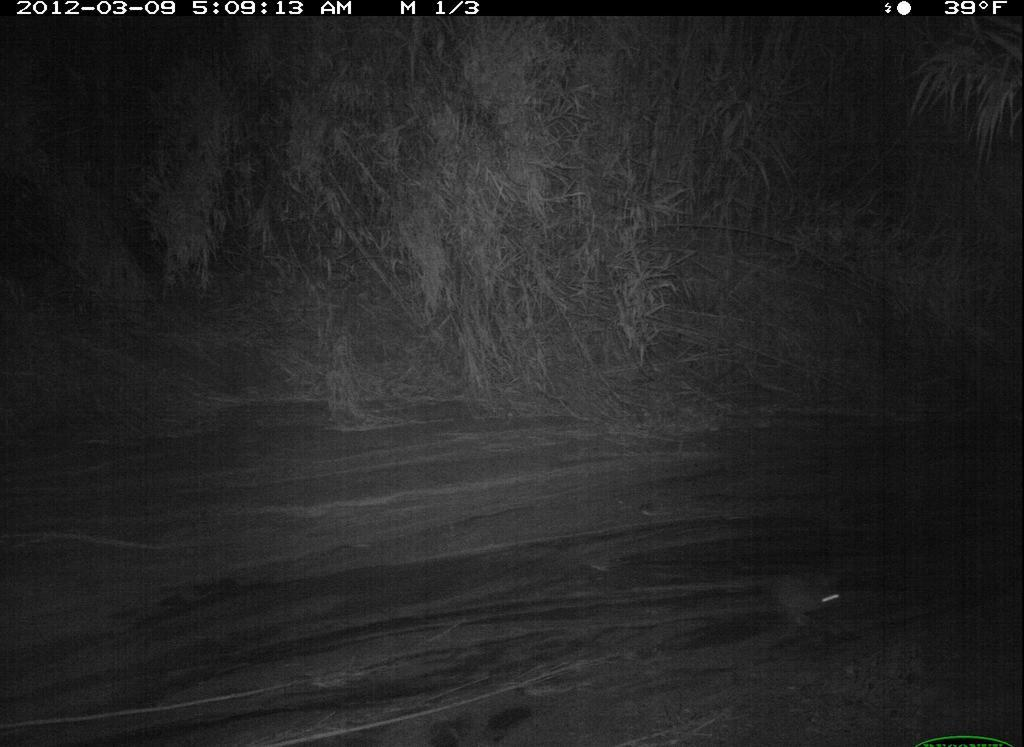rabbit: (711, 524, 950, 651)
